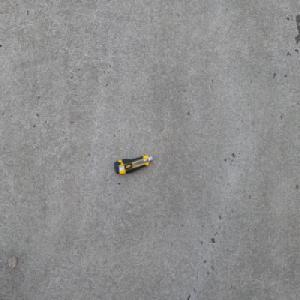Cutter: (113, 154, 153, 175)
